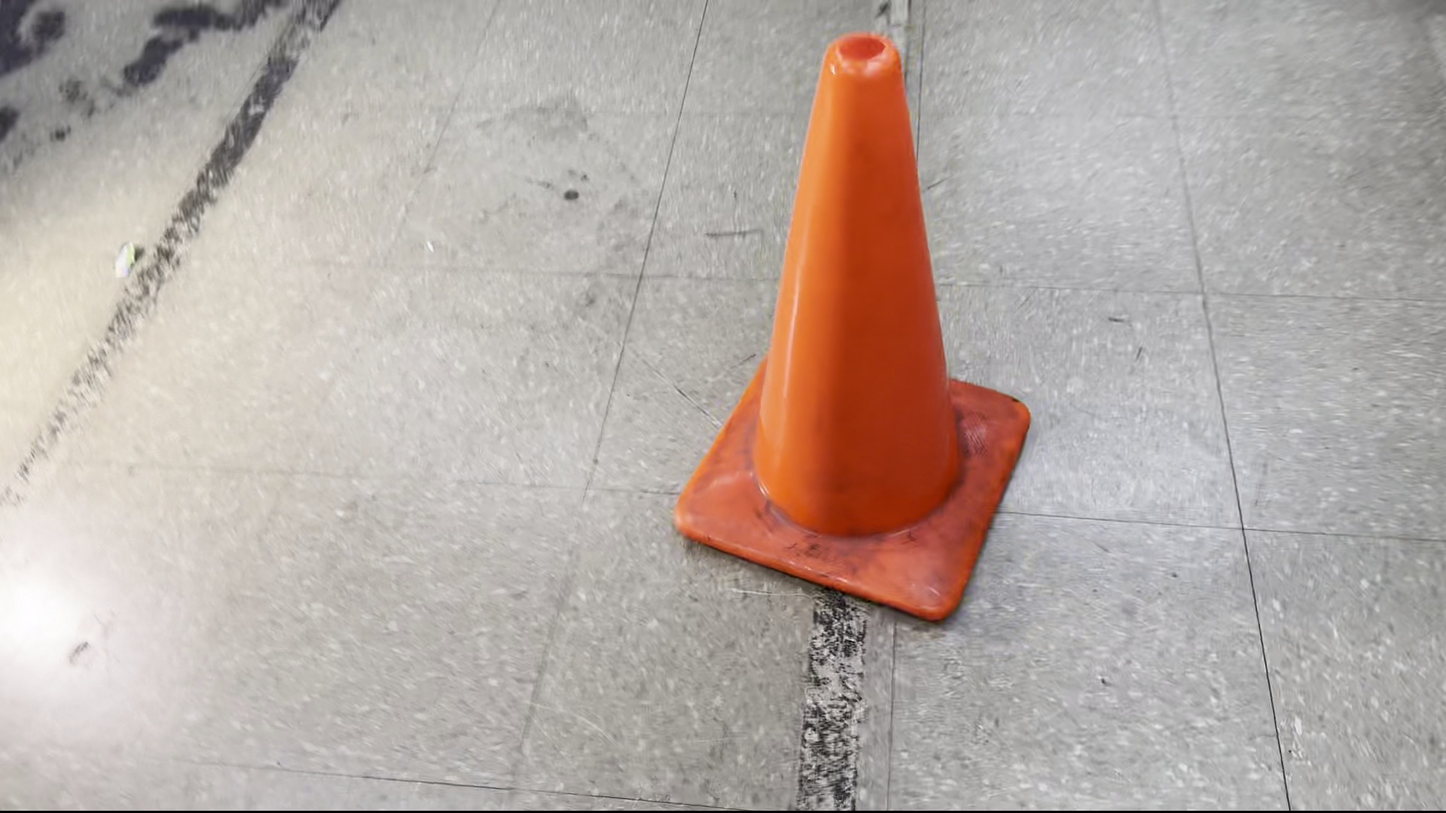traffic_cone: (673, 30, 1031, 623)
